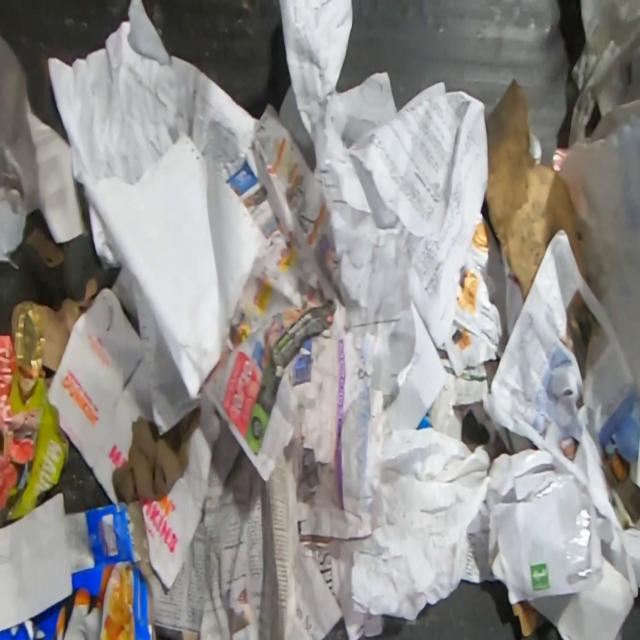cardboard: (484, 76, 591, 302), (48, 286, 154, 503), (0, 499, 159, 639), (140, 423, 214, 593), (5, 374, 70, 522), (40, 275, 99, 374), (23, 223, 67, 273), (510, 600, 548, 636)
metal: (11, 298, 46, 399)
soft_plastic: (560, 111, 640, 418), (567, 0, 639, 147), (0, 34, 42, 221)
